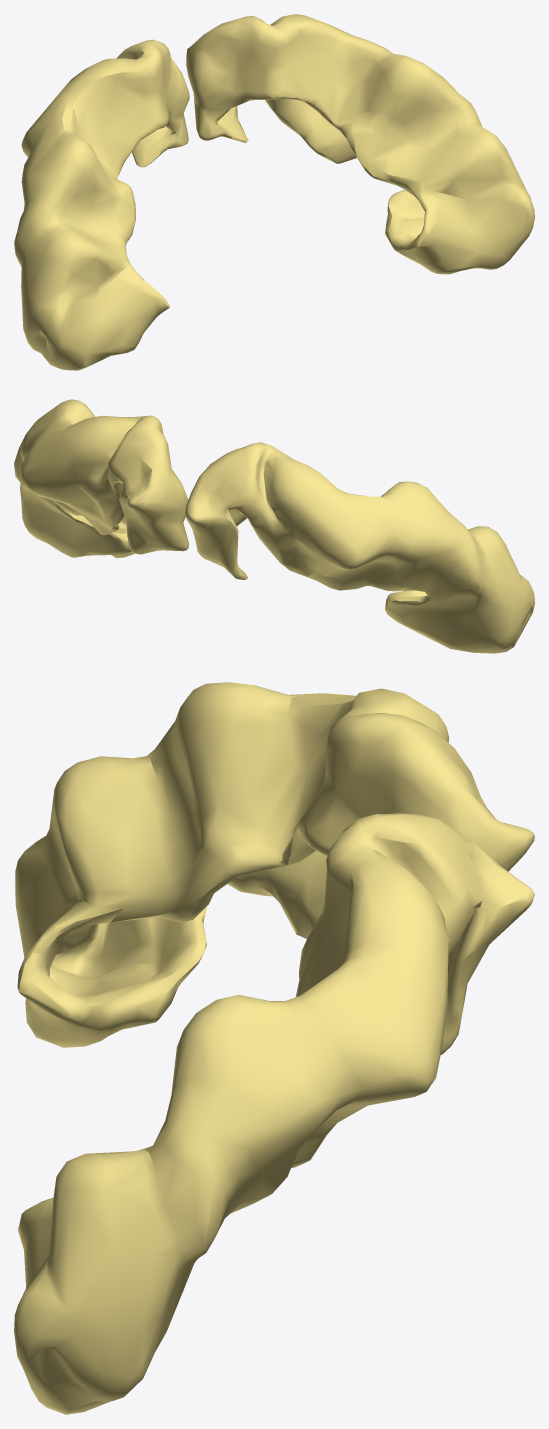
The model's file is giro-pos-central.glb.
The picture shows the model from 3 angles, top to bottom: view 1: azimuth 30°, elevation 25°; view 2: azimuth 150°, elevation 25°; view 3: azimuth 270°, elevation 25°; orthographic projection. The views are drawn at different scales.
Visible parts, largest first — view 1: giro-pos-central; view 2: giro-pos-central; view 3: giro-pos-central.
Boxes of the visible parts, bbox=[...] form: giro-pos-central: bbox=[14, 14, 534, 370]; giro-pos-central: bbox=[14, 399, 534, 653]; giro-pos-central: bbox=[14, 682, 534, 1414].
Bounding box in the file's own units: 0.1356 × 0.0598 × 0.0637.
